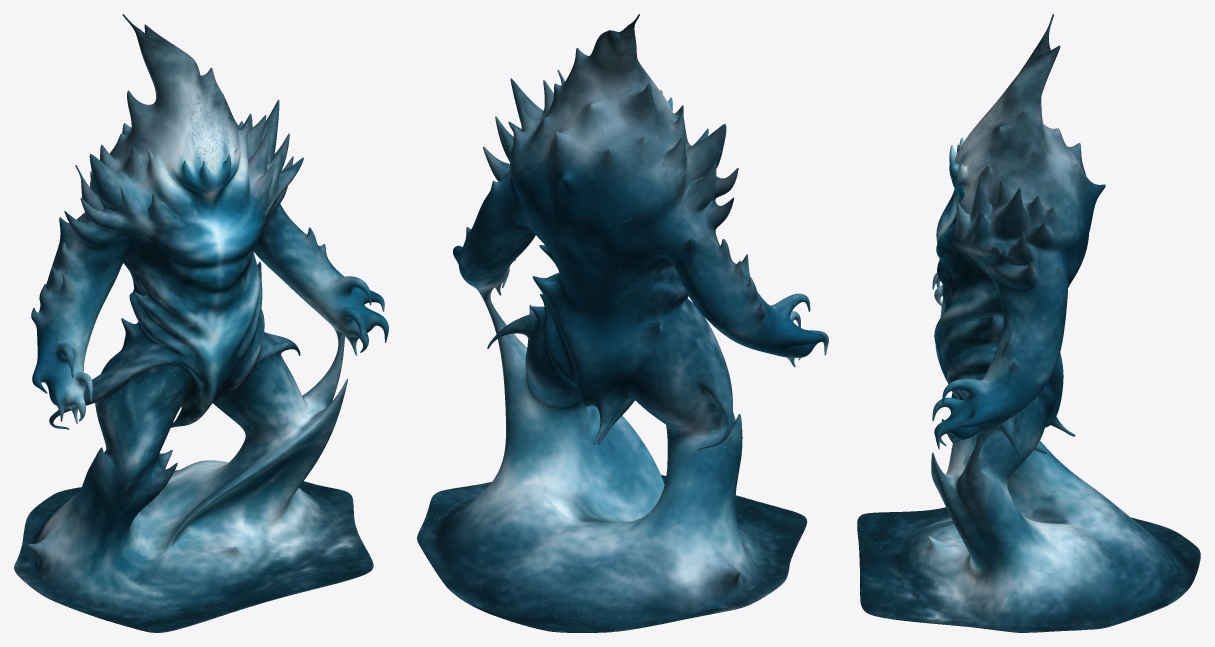
File: water_elemental.glb
3 views of the same model, side by side, from view 1: azimuth 30°, elevation 25°; view 2: azimuth 150°, elevation 25°; view 3: azimuth 270°, elevation 25° (orthographic). The views are drawn at different scales.
Parts seen in each view (by area): view 1: material; view 2: material; view 3: material.
Part boxes in pixels (x1,y1,x2,y2): material: [14, 14, 388, 632]; material: [417, 14, 828, 632]; material: [857, 14, 1200, 632].
Size of the model in its own units: 0.6894 by 1.05 by 0.591.
Materials: 1 (1 with a texture image).
